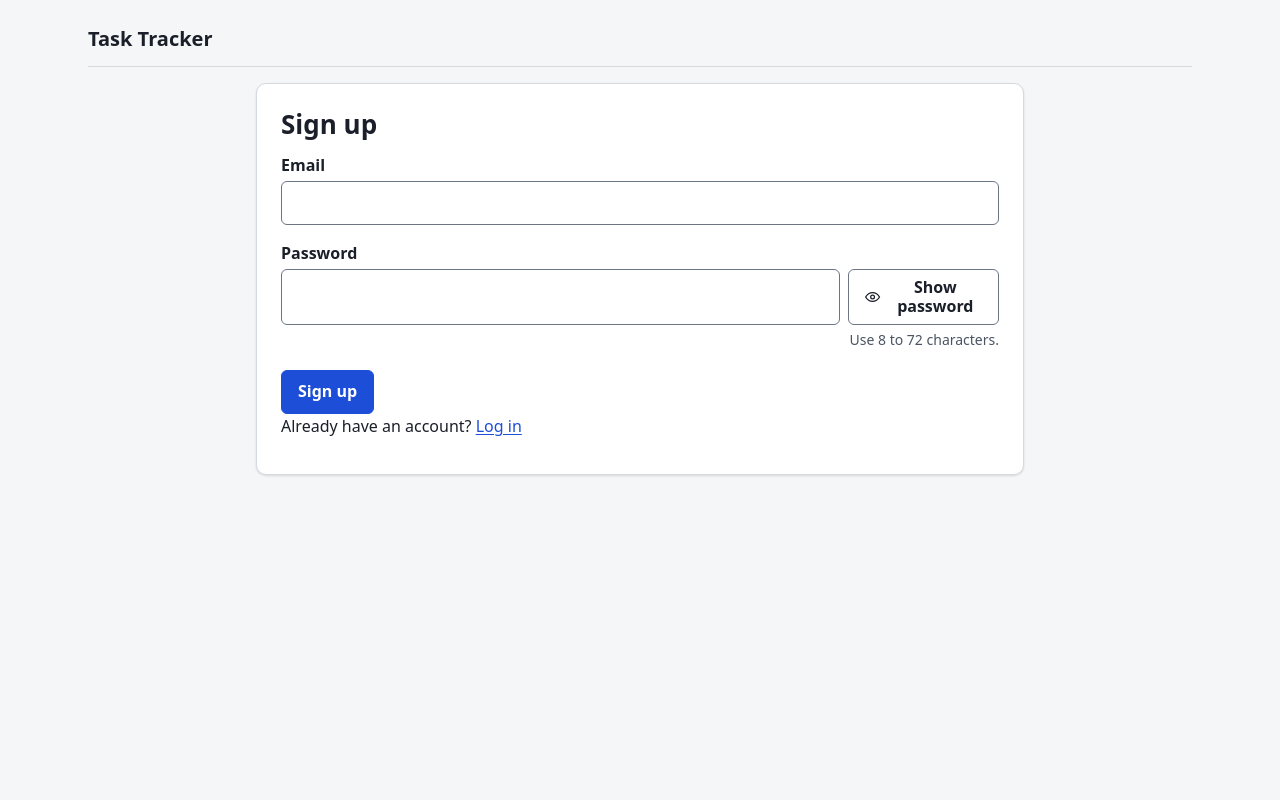
Test: signup › shows the password rule, has a show/hide button and logs in straight away
Expected: the text "Use 8 to 72 characters." is shown, [850,329,999,350]
Type "new@example.com" into the field labelled "Email" at point(640, 202), box [281,180,999,224]
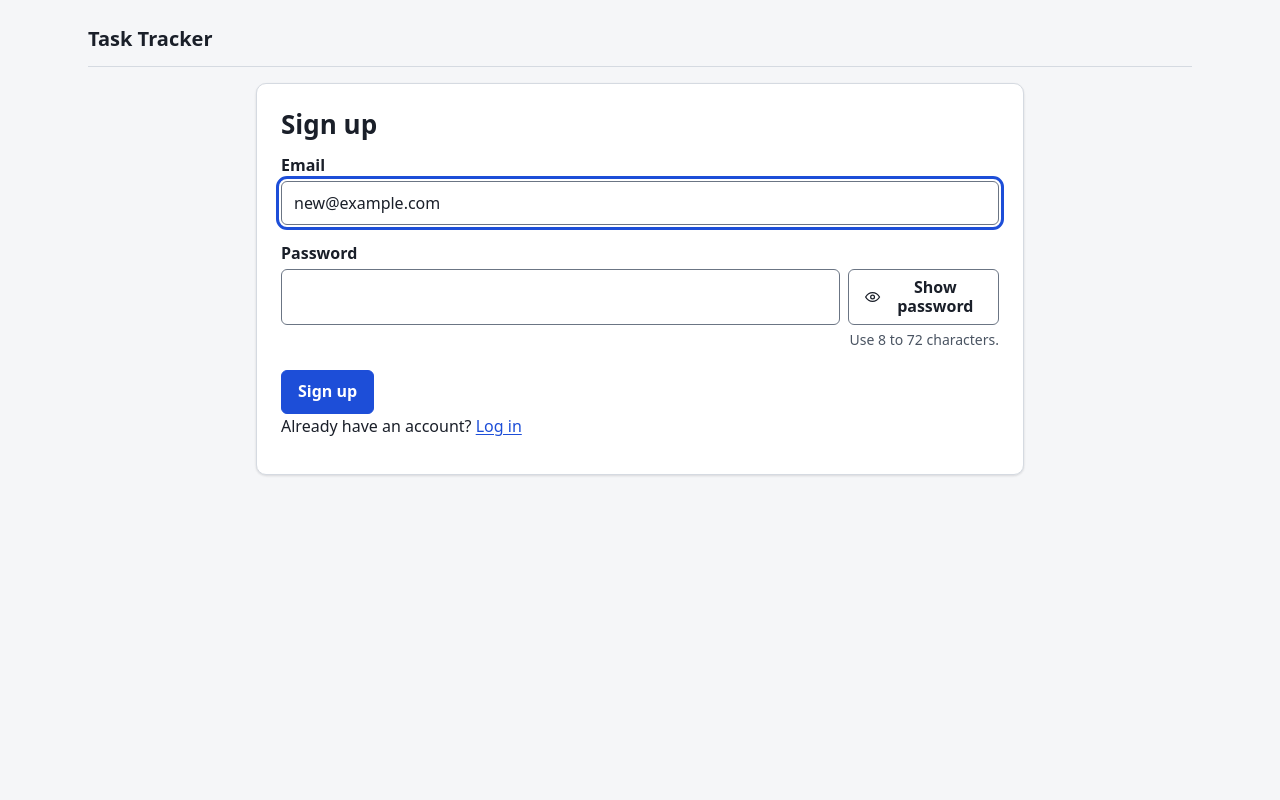
Type "LongEnough1" into the password field labelled "Password" at point(561, 297), box [281,268,840,325]
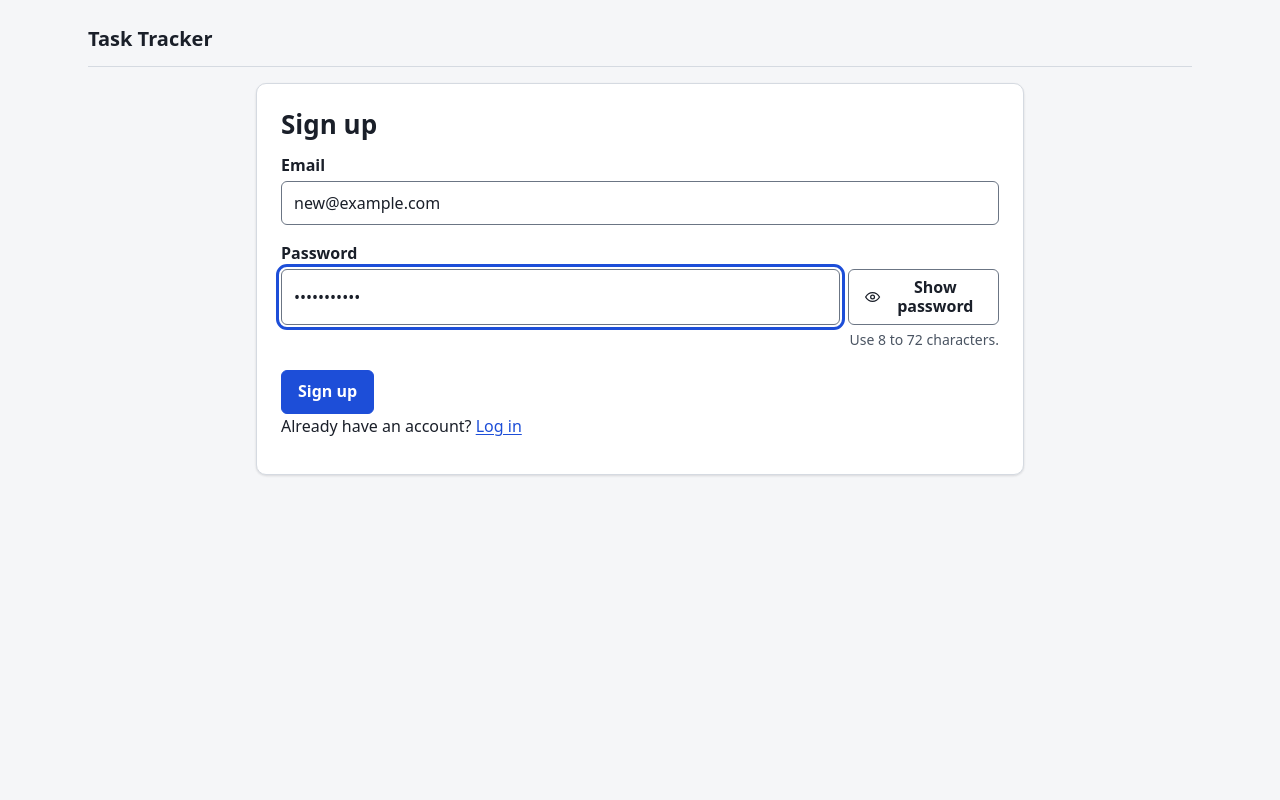
Click the button "Show password" at point(924, 297), box [848,268,999,325]
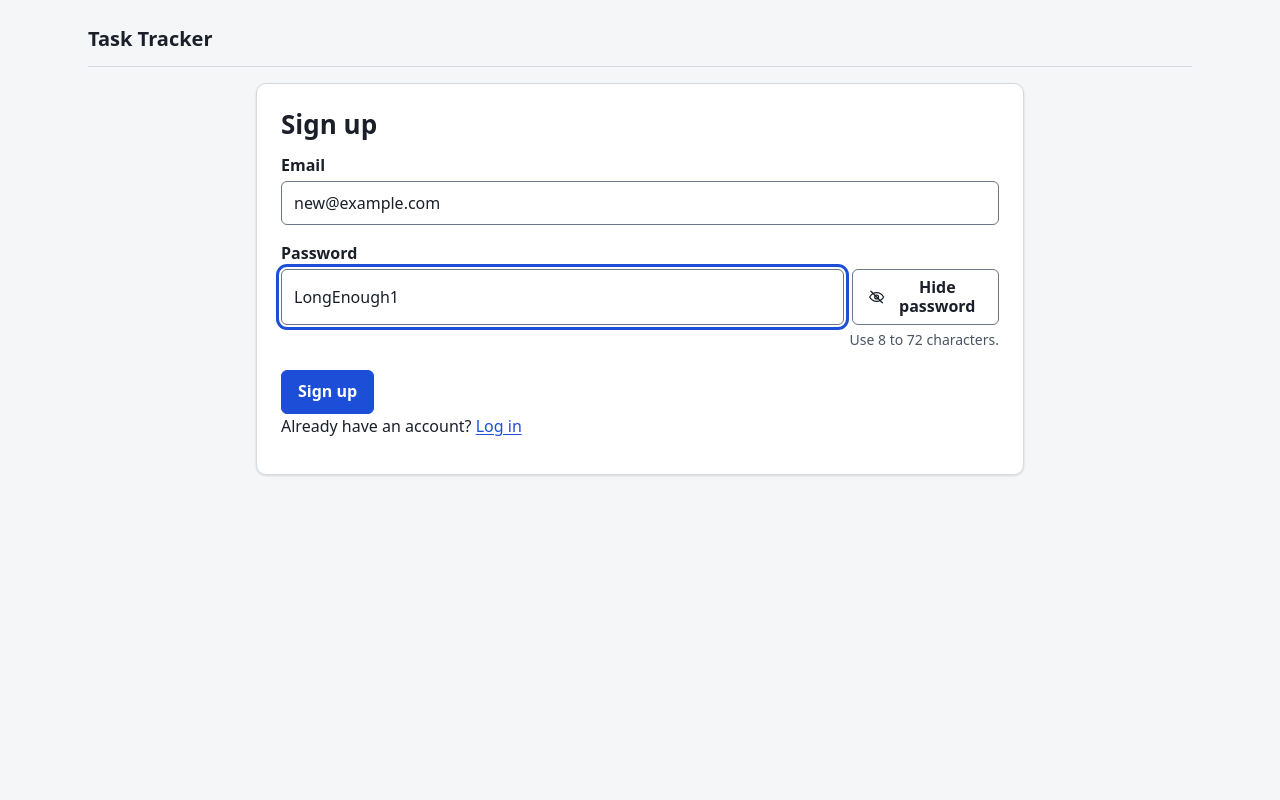
Expected: the field labelled "Password" shows its text, [281,268,844,325]
Click the button "Sign up" at point(328, 392), box [281,370,374,414]
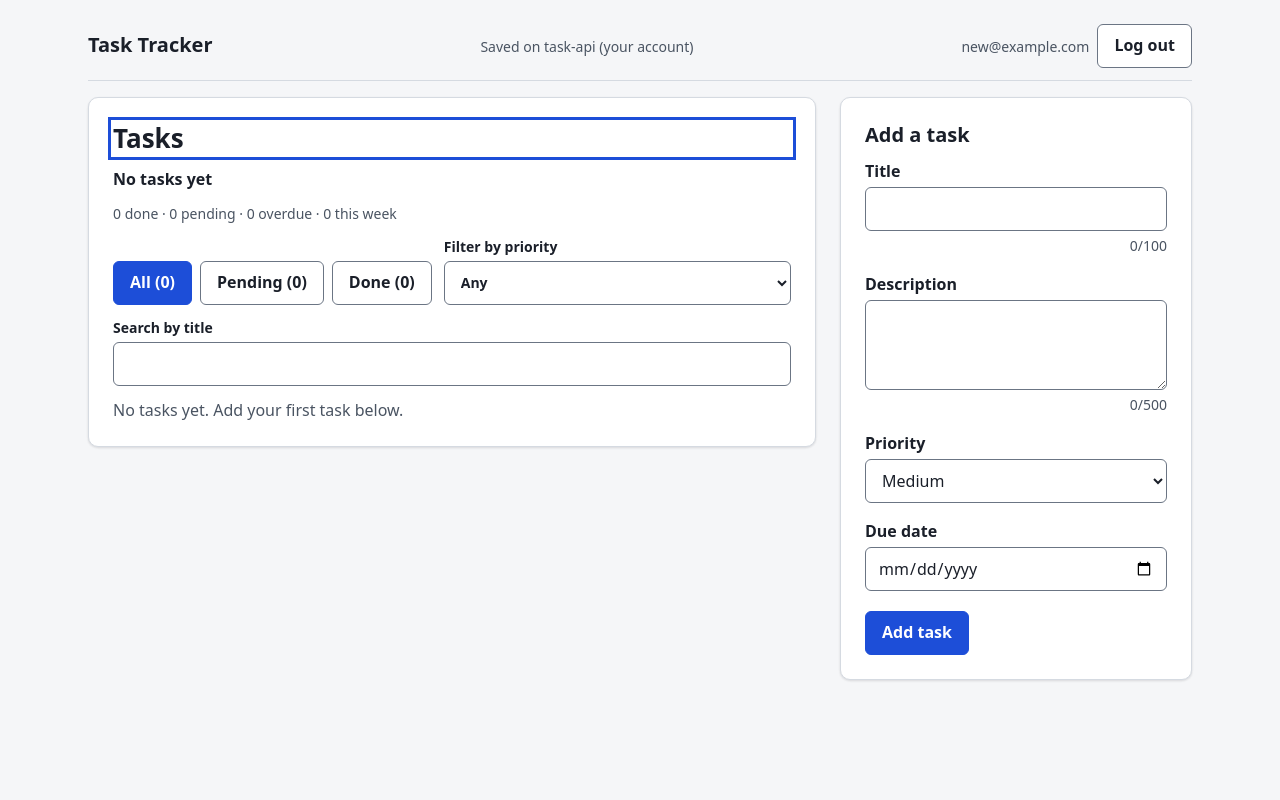
Expected: the heading "Tasks" is shown, [113,120,184,156]
